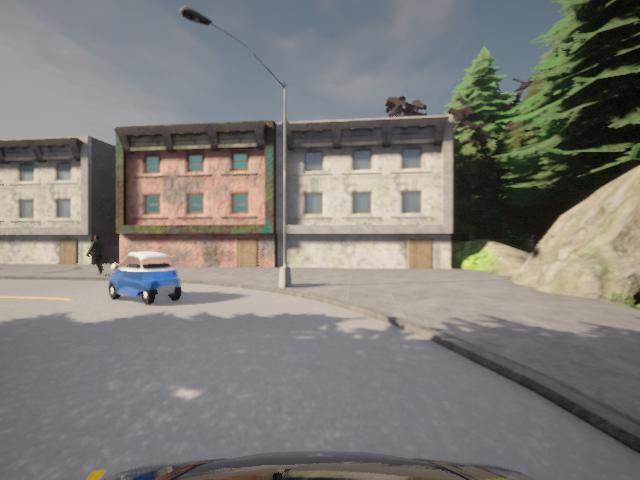9: (108, 251, 186, 304)
vehicle: (88, 236, 105, 274)
